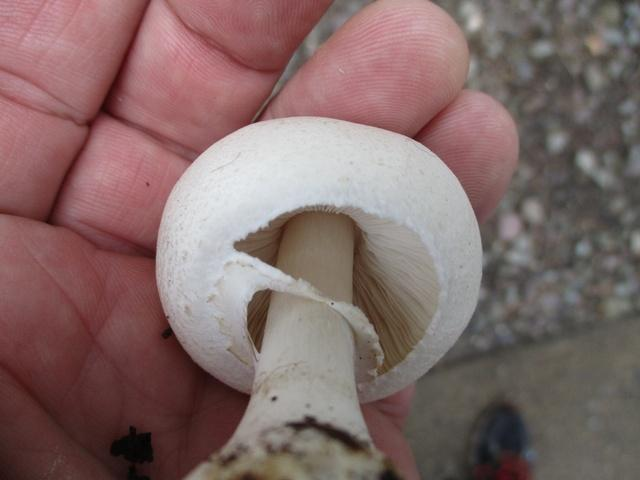poisonous_mushroom: (153, 113, 484, 477)
